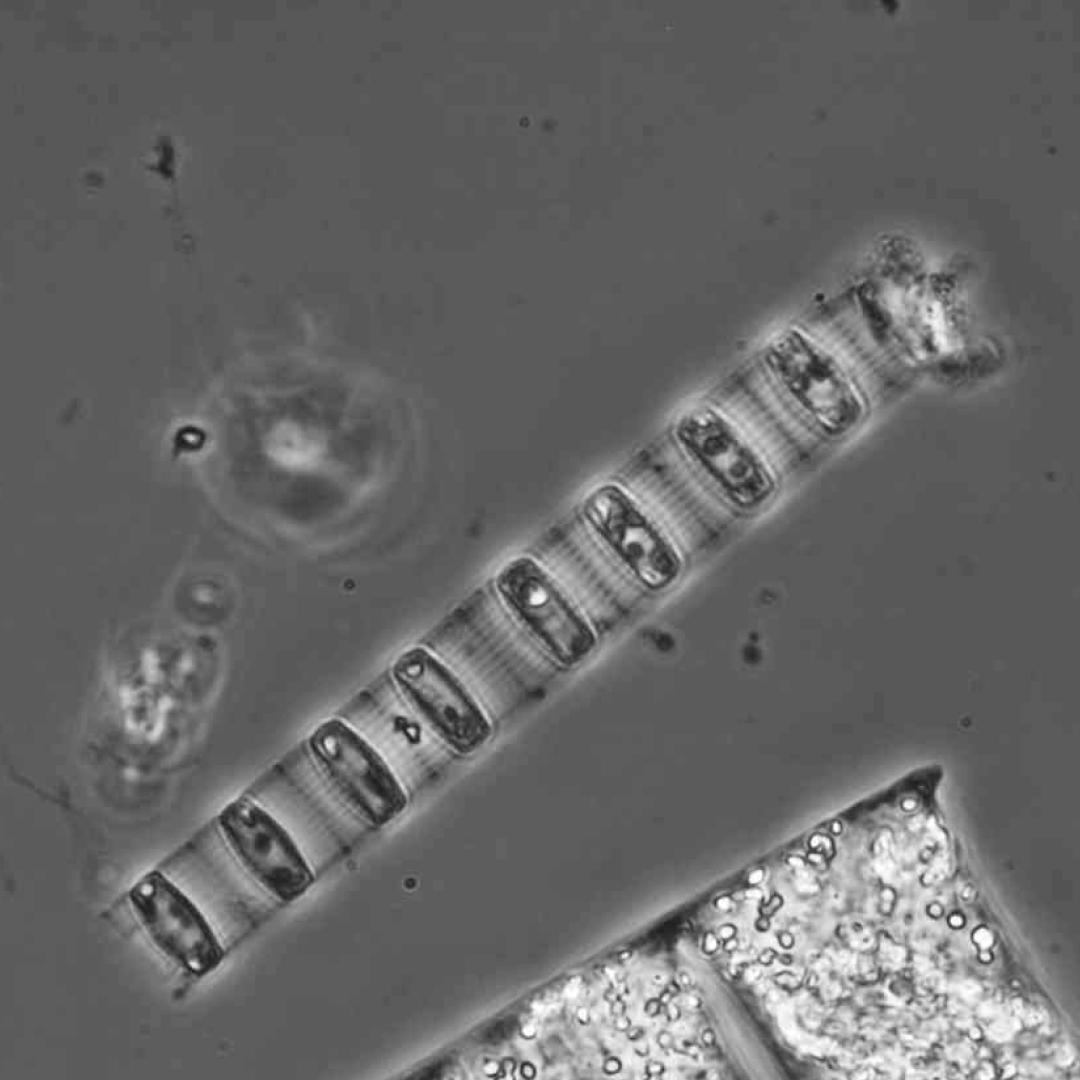skeletonema_costatum: (102, 275, 961, 1000)
